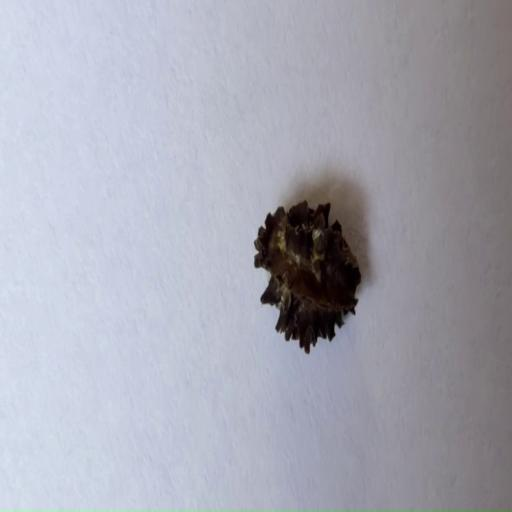papaya_seed: (242, 154, 378, 362)
